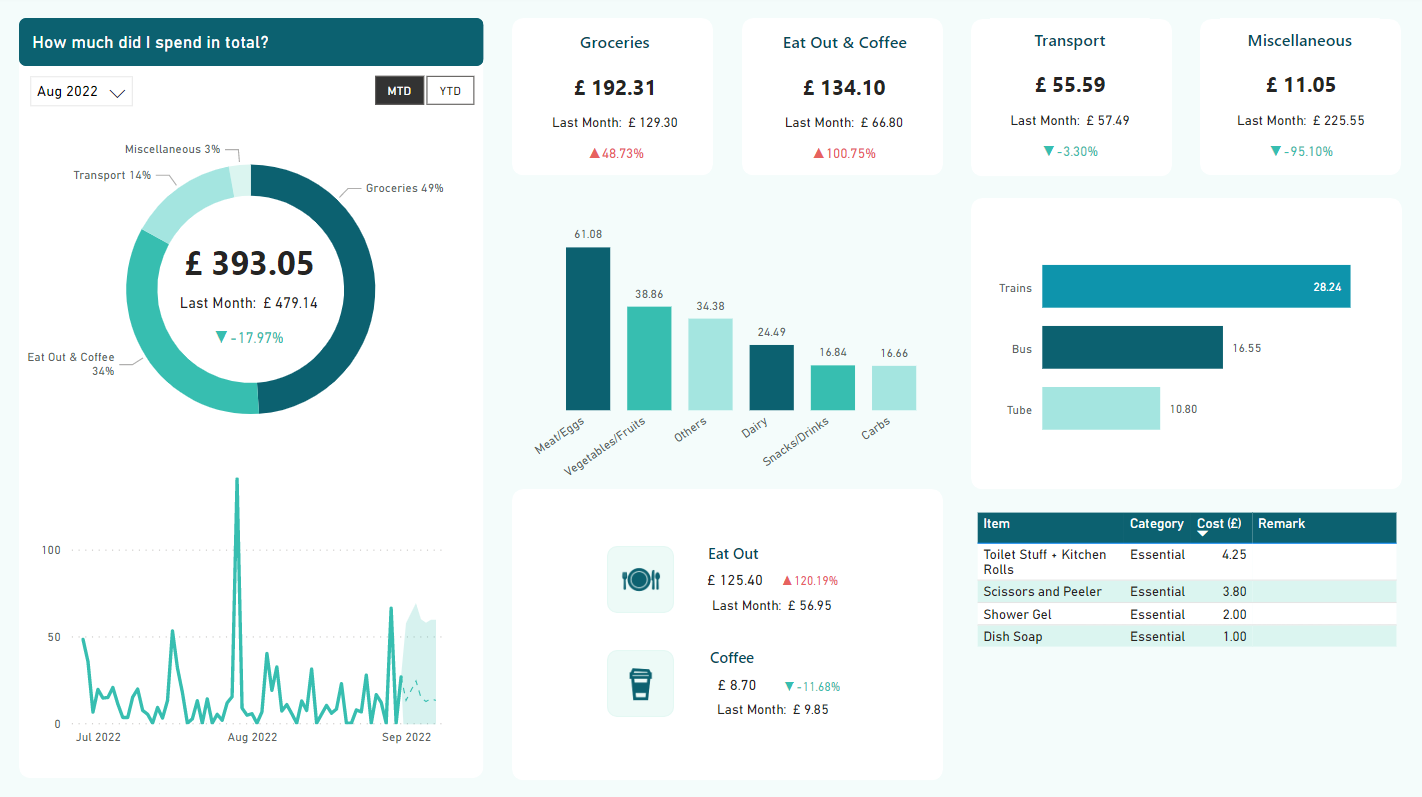

Layout of this report page (visuals, bound fields, positions):
{"tool":"powerbi","page":{"name":"v2 (main)","canvas":[1280,720],"ordinal":1},"visuals":[{"type":"shape","box":[881.3,181.2,377.7,260.4],"z":0},{"type":"shape","box":[20.7,21.8,416.5,679.3],"z":1000},{"type":"shape","box":[1078,21.1,180,140.2],"z":2000,"group":"g1"},{"type":"shape","box":[466.4,20.1,180.3,141.2],"z":3000,"group":"g4"},{"type":"shape","box":[466.4,441.6,386.3,260.4],"z":4000},{"type":"shape","title":"Groceries","box":[487.4,22,143.1,37.2],"z":5000,"group":"g4"},{"type":"shape","box":[881,21.3,180,141],"z":6000,"group":"g2"},{"type":"card","fields":{"Values":["Groceries Daily.Total Amount (Groceries) Card"]},"box":[487.4,64.5,143.1,37.2],"z":7000,"group":"g4"},{"type":"shape","box":[672.4,20.1,180,141.2],"z":8000,"group":"g3"},{"type":"card","fields":{"Values":["Groceries Daily.Total Amount (Groceries) Previous Card"]},"box":[487.4,100.8,143.1,28.6],"z":9000,"group":"g4"},{"type":"card","fields":{"Values":["Groceries Daily.Total Amount (Groceries) Arrow"]},"box":[519.9,127.5,78.2,29.6],"z":10000,"group":"g4"},{"type":"shape","box":[21,20.1,415.9,42.9],"z":11000},{"type":"card","fields":{"Values":["Date Selection.Total Amount Card"]},"box":[132.6,212.7,187.9,50.6],"z":12000},{"type":"slicer","fields":{"Values":["Date Dim.Month Year Name"]},"box":[21,62,111.6,39.1],"z":13000},{"type":"shape","title":"Groceries","box":[693.3,22,143.1,37.2],"z":14000,"group":"g3"},{"type":"donutChart","fields":{"Y":["Groceries Daily.Total Amount (Groceries)","Eat Out & Coffee Daily.Total Amount (EOC)","Miscellaneous Daily.Total Amount (Miscellaneous)","Transport Daily.Total Amount (Transport)"]},"box":[21,101.4,415.4,322.7],"z":15000},{"type":"shape","title":"Groceries","box":[1096,20.1,143.1,37.2],"z":16000,"group":"g1"},{"type":"card","fields":{"Values":["Date Selection.Total Amount Previous Card"]},"box":[138.8,261.3,175.5,28.6],"z":17000},{"type":"shape","title":"Groceries","box":[897.7,20.1,143.1,37.2],"z":18000,"group":"g2"},{"type":"card","fields":{"Values":["Date Selection.Total Amount Arrow"]},"box":[187.5,291.9,78.2,29.6],"z":19000},{"type":"card","fields":{"Values":["Eat Out & Coffee Daily.Total Amount (EOC) Card"]},"box":[691.9,64.5,143.1,37.2],"z":20000,"group":"g3"},{"type":"card","fields":{"Values":["Eat Out & Coffee Daily.Total Amount (EOC) Previous Card"]},"box":[691.9,100.8,143.1,28.6],"z":21000,"group":"g3"},{"type":"slicer","fields":{"Values":["Date Selection.Type"]},"box":[313.8,64.9,139.3,38.2],"z":22000},{"type":"card","fields":{"Values":["Eat Out & Coffee Daily.Total Amount (EOC) Arrow"]},"box":[724.3,127.5,78.2,29.6],"z":23000,"group":"g3"},{"type":"card","fields":{"Values":["Miscellaneous Daily.Total Amount (Miscellaneous) Card"]},"box":[1096.5,62.6,143.1,37.2],"z":24000,"group":"g1"},{"type":"card","fields":{"Values":["Miscellaneous Daily.Total Amount (Miscellaneous) Previous Card"]},"box":[1096.5,98.9,143.1,28.6],"z":25000,"group":"g1"},{"type":"card","fields":{"Values":["Miscellaneous Daily.Total Amount (Miscellaneous) Arrow"]},"box":[1128.9,125.6,78.2,29.6],"z":26000,"group":"g1"},{"type":"columnChart","fields":{"Category":["Groceries Daily.Category"],"Y":["Groceries Daily.Total Amount (Groceries)"]},"box":[475.9,189.8,376.8,259.4],"z":27000},{"type":"card","fields":{"Values":["Transport Daily.Total Amount (Transport) Card"]},"box":[898.1,62.6,143.1,37.2],"z":28000,"group":"g2"},{"type":"tableEx","fields":{"Values":["Miscellaneous Daily.Item","Miscellaneous Daily.Essential/Non-essential","Miscellaneous Daily.Cost (£)","Miscellaneous Daily.Remark"]},"box":[881.3,457.8,377.7,236.5],"z":29000},{"type":"card","fields":{"Values":["Transport Daily.Total Amount (Transport) Previous Card"]},"box":[898.1,98.9,143.1,28.6],"z":30000,"group":"g2"},{"type":"card","fields":{"Values":["Transport Daily.Total Amount (Transport) Arrow"]},"box":[930.6,125.6,78.2,29.6],"z":31000,"group":"g2"},{"type":"clusteredBarChart","fields":{"Category":["Transport Daily.Transportation Type"],"Y":["Transport Daily.Total Amount (Transport)"]},"box":[891.8,206,357.7,211.7],"z":32000},{"type":"lineChart","fields":{"Y":["Date Selection.Total Amount"],"Category":["Date Dim.Date"]},"box":[35,418,387,259],"z":33000},{"type":"shape","box":[547,492.2,60,60],"z":34000},{"type":"image","box":[554.2,496.9,45.8,50.6],"z":35000},{"type":"shape","title":"Groceries","box":[638.5,479.9,63,37.2],"z":36000},{"type":"card","fields":{"Values":["Eat Out & Coffee Daily.Total Amount (EOC) Card"]},"box":[627,506,71.5,37.2],"z":37000},{"type":"card","fields":{"Values":["Eat Out & Coffee Daily.Total Amount (EOC) Previous Card"]},"box":[624.3,533,143.3,28.7],"z":38000},{"type":"card","fields":{"Values":["Eat Out & Coffee Daily.Total Amount (EOC) Arrow"]},"box":[690.9,510.8,78.2,29.6],"z":39000},{"type":"shape","box":[549.4,585.2,60,60],"z":40000},{"type":"shape","title":"Groceries","box":[640.8,572.9,63,37.2],"z":42000},{"type":"card","fields":{"Values":["Eat Out & Coffee Daily.Total Amount (EOC) Card"]},"box":[628.9,600.1,71.5,37.2],"z":43000},{"type":"card","fields":{"Values":["Eat Out & Coffee Daily.Total Amount (EOC) Previous Card"]},"box":[625.2,626.1,143.3,28.7],"z":44000},{"type":"card","fields":{"Values":["Eat Out & Coffee Daily.Total Amount (EOC) Arrow"]},"box":[692.8,604.9,78.2,29.6],"z":45000},{"type":"image","box":[556.2,590,46,51],"z":45001},{"type":"group","id":"g1","title":"Group 1","box":[1078,20.1,180,141.2],"z":45002},{"type":"group","id":"g2","title":"Group 2","box":[881,20.1,180,142.2],"z":45003},{"type":"group","id":"g3","title":"Group 3","box":[672.4,20.1,180,141.2],"z":45004},{"type":"group","id":"g4","title":"Group 4","box":[466.4,20.1,180.3,141.2],"z":45005}]}

Visuals, with their boxes in screenshot pixels (x1, y1, x2, y2), scaled from the page's 1280x720 canvas onto the 1422x797 screenshot:
shape: box=[979, 201, 1399, 489]
shape: box=[23, 24, 486, 776]
shape: box=[1198, 23, 1398, 179]
shape: box=[518, 22, 718, 179]
shape: box=[518, 489, 947, 777]
"Groceries" shape: box=[541, 24, 700, 66]
shape: box=[979, 24, 1179, 180]
card - Groceries Daily.Total Amount (Groceries) Card: box=[541, 71, 700, 113]
shape: box=[747, 22, 947, 179]
card - Groceries Daily.Total Amount (Groceries) Previous Card: box=[541, 112, 700, 143]
card - Groceries Daily.Total Amount (Groceries) Arrow: box=[578, 141, 664, 174]
shape: box=[23, 22, 485, 70]
card - Date Selection.Total Amount Card: box=[147, 235, 356, 291]
slicer - Date Dim.Month Year Name: box=[23, 69, 147, 112]
"Groceries" shape: box=[770, 24, 929, 66]
donutChart - Groceries Daily.Total Amount (Groceries) x Eat Out & Coffee Daily.Total Amount (EOC): box=[23, 112, 485, 469]
"Groceries" shape: box=[1218, 22, 1377, 63]
card - Date Selection.Total Amount Previous Card: box=[154, 289, 349, 321]
"Groceries" shape: box=[997, 22, 1156, 63]
card - Date Selection.Total Amount Arrow: box=[208, 323, 295, 356]
card - Eat Out & Coffee Daily.Total Amount (EOC) Card: box=[769, 71, 928, 113]
card - Eat Out & Coffee Daily.Total Amount (EOC) Previous Card: box=[769, 112, 928, 143]
slicer - Date Selection.Type: box=[349, 72, 503, 114]
card - Eat Out & Coffee Daily.Total Amount (EOC) Arrow: box=[805, 141, 892, 174]
card - Miscellaneous Daily.Total Amount (Miscellaneous) Card: box=[1218, 69, 1377, 110]
card - Miscellaneous Daily.Total Amount (Miscellaneous) Previous Card: box=[1218, 109, 1377, 141]
card - Miscellaneous Daily.Total Amount (Miscellaneous) Arrow: box=[1254, 139, 1341, 172]
columnChart - Groceries Daily.Category x Groceries Daily.Total Amount (Groceries): box=[529, 210, 947, 497]
card - Transport Daily.Total Amount (Transport) Card: box=[998, 69, 1157, 110]
tableEx - Miscellaneous Daily.Item x Miscellaneous Daily.Essential/Non-essential: box=[979, 507, 1399, 769]
card - Transport Daily.Total Amount (Transport) Previous Card: box=[998, 109, 1157, 141]
card - Transport Daily.Total Amount (Transport) Arrow: box=[1034, 139, 1121, 172]
clusteredBarChart - Transport Daily.Transportation Type x Transport Daily.Total Amount (Transport): box=[991, 228, 1388, 462]
lineChart - Date Selection.Total Amount x Date Dim.Date: box=[39, 463, 469, 749]
shape: box=[608, 545, 674, 611]
image: box=[616, 550, 667, 606]
"Groceries" shape: box=[709, 531, 779, 572]
card - Eat Out & Coffee Daily.Total Amount (EOC) Card: box=[697, 560, 776, 601]
card - Eat Out & Coffee Daily.Total Amount (EOC) Previous Card: box=[694, 590, 853, 622]
card - Eat Out & Coffee Daily.Total Amount (EOC) Arrow: box=[768, 565, 854, 598]
shape: box=[610, 648, 677, 714]
"Groceries" shape: box=[712, 634, 782, 675]
card - Eat Out & Coffee Daily.Total Amount (EOC) Card: box=[699, 664, 778, 705]
card - Eat Out & Coffee Daily.Total Amount (EOC) Previous Card: box=[695, 693, 854, 725]
card - Eat Out & Coffee Daily.Total Amount (EOC) Arrow: box=[770, 670, 857, 702]
image: box=[618, 653, 669, 710]
"Group 1" group: box=[1198, 22, 1398, 179]
"Group 2" group: box=[979, 22, 1179, 180]
"Group 3" group: box=[747, 22, 947, 179]
"Group 4" group: box=[518, 22, 718, 179]
